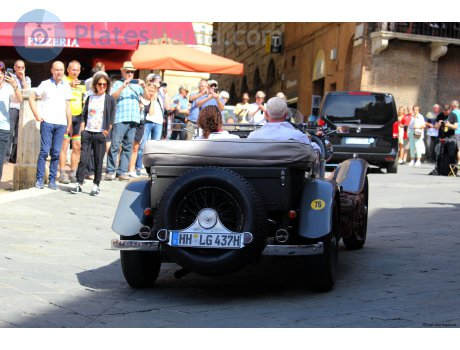License Plates: (179, 230, 240, 244)
